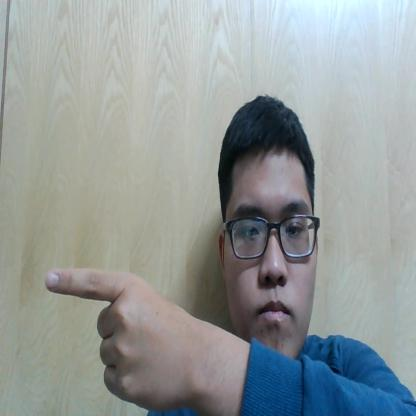right: (32, 242, 219, 416)
